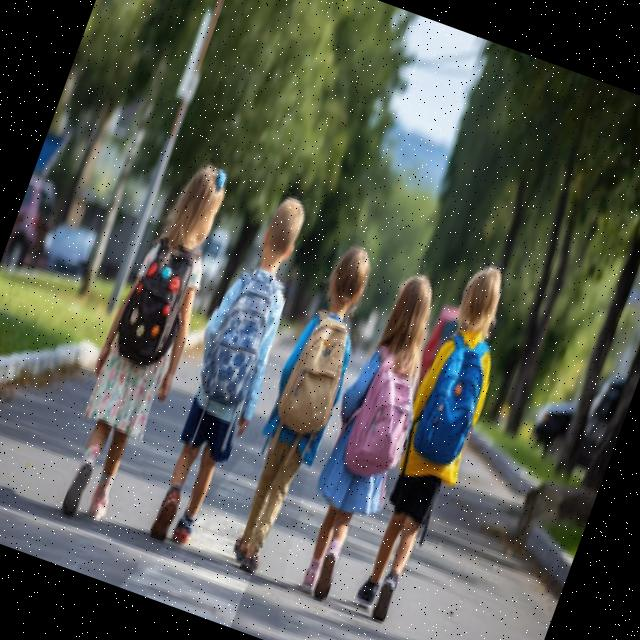Person: (44, 152, 246, 534), (339, 255, 533, 630), (132, 187, 328, 557), (275, 264, 465, 610), (212, 235, 390, 584)
